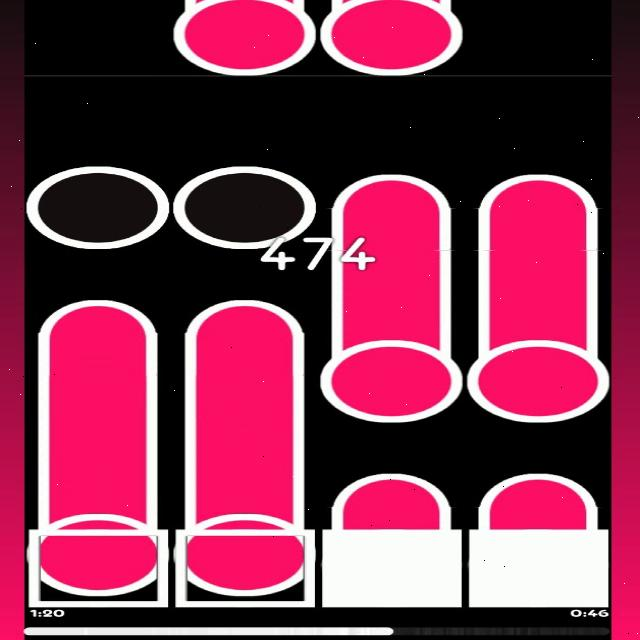end_hold: (32, 296, 163, 340), (473, 171, 601, 212), (331, 170, 452, 212), (330, 469, 453, 510), (179, 300, 304, 340), (478, 469, 598, 506)
note: (26, 166, 172, 251), (172, 166, 316, 251)
start_hold: (26, 499, 168, 597), (320, 328, 463, 423), (468, 329, 608, 424), (178, 501, 314, 597), (320, 0, 464, 75), (173, 0, 315, 73)
